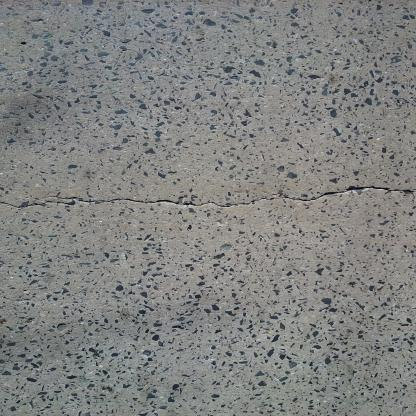Cracks: (0, 179, 414, 212)
